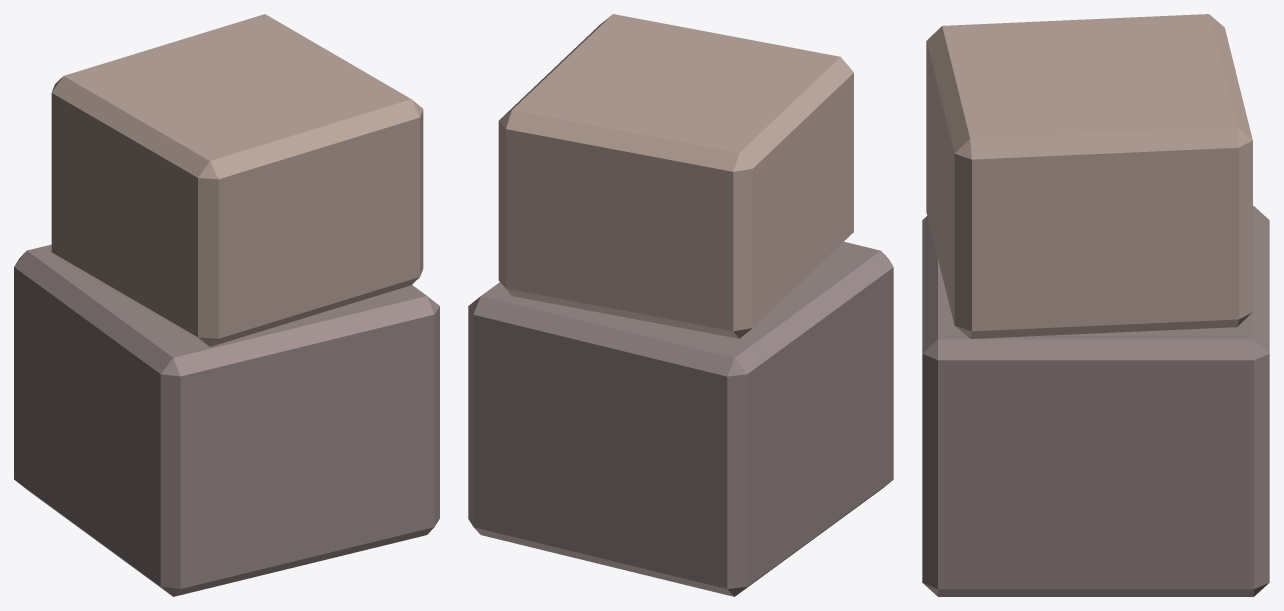
File: Pillar_Short.fbx
3 views of the same model, side by side, from view 1: azimuth 30°, elevation 25°; view 2: azimuth 150°, elevation 25°; view 3: azimuth 270°, elevation 25° (orthographic). The views are drawn at different scales.
Parts seen in each view (by area): view 1: Pillar_Short; view 2: Pillar_Short; view 3: Pillar_Short.
Boxes of the visible parts, x1,y1,x2,y2 form: Pillar_Short: [14, 14, 439, 596]; Pillar_Short: [468, 14, 893, 596]; Pillar_Short: [922, 14, 1269, 596].
Bounding box in the file's own units: 1.1 × 1.6 × 1.1.
